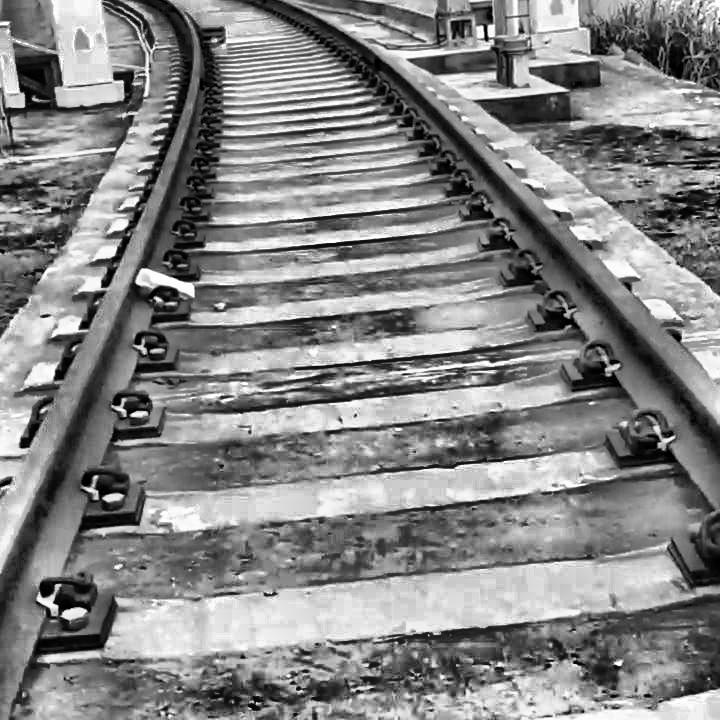Trash: (130, 254, 201, 313), (191, 22, 246, 59)
